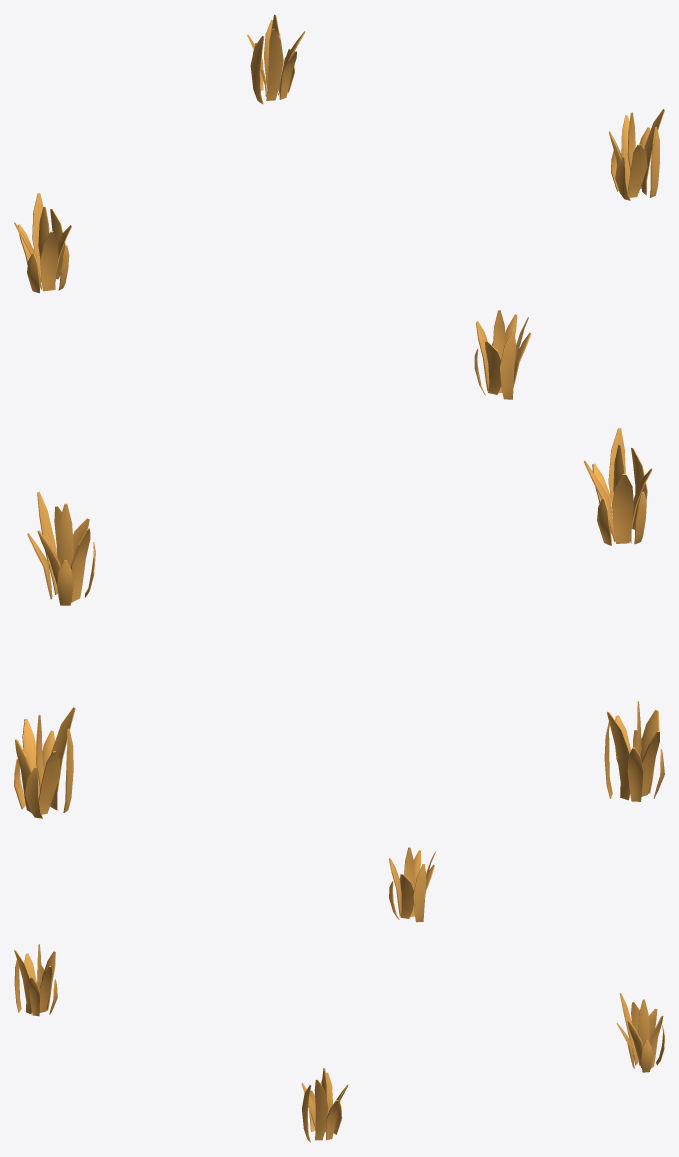
The model's file is a_z2_grass_l_many.fbx.
3 views of the same model, one above another, from view 1: azimuth 30°, elevation 25°; view 2: azimuth 150°, elevation 25°; view 3: azimuth 270°, elevation 25° (orthographic). The views are drawn at different scales.
Visible parts, largest first — view 1: a_z2_grass_l_many; view 2: a_z2_grass_l_many; view 3: a_z2_grass_l_many.
Part boxes in pixels (<box>): a_z2_grass_l_many: <box>14,14,664,399</box>; a_z2_grass_l_many: <box>14,428,664,818</box>; a_z2_grass_l_many: <box>14,847,664,1142</box>.
Bounding box in the file's own units: 782 × 102 × 887.
